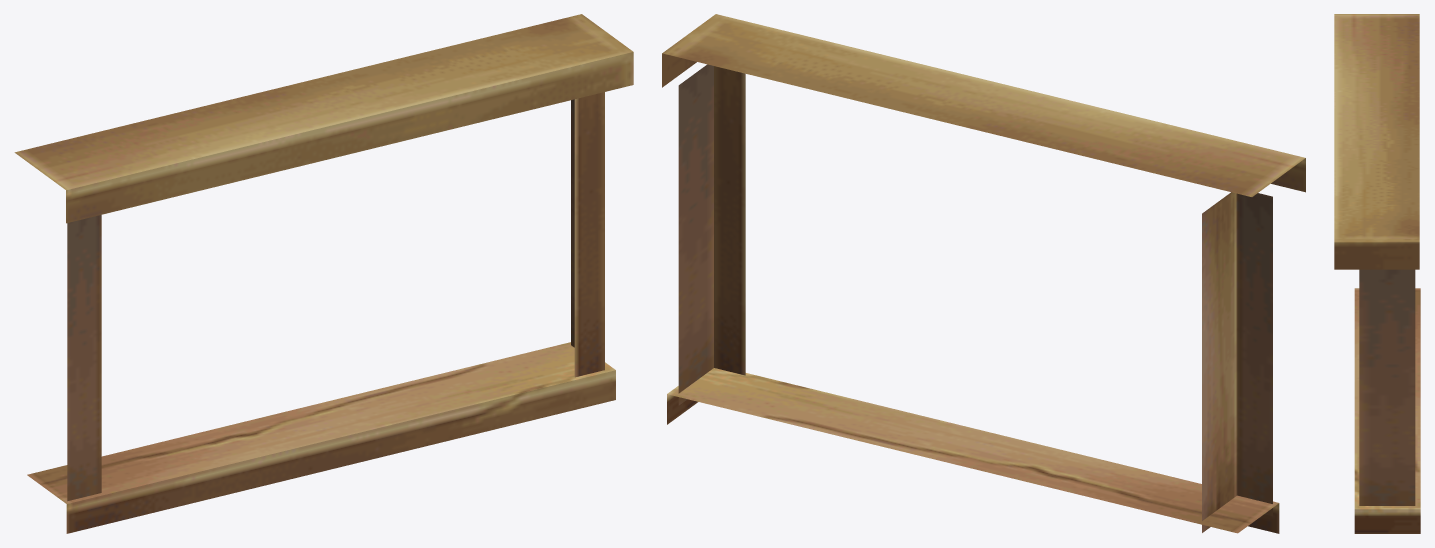
Rendered from K1_oldwicket.FBX.
The picture shows the model from 3 angles, left to right: view 1: azimuth 30°, elevation 25°; view 2: azimuth 150°, elevation 25°; view 3: azimuth 270°, elevation 25°; orthographic projection. The views are drawn at different scales.
Visible parts, largest first — view 1: oldwicket_02, oldwicket_03, oldwicket_01, oldwicket_00; view 2: oldwicket_02, oldwicket_03, oldwicket_01, oldwicket_00; view 3: oldwicket_02, oldwicket_00, oldwicket_03.
Part boxes in pixels (x1,y1,x2,y2): oldwicket_02: [14, 14, 633, 223]; oldwicket_03: [27, 342, 615, 533]; oldwicket_01: [67, 215, 101, 501]; oldwicket_00: [571, 92, 604, 377]; oldwicket_02: [662, 14, 1305, 196]; oldwicket_03: [667, 368, 1279, 533]; oldwicket_01: [1202, 192, 1272, 532]; oldwicket_00: [678, 64, 745, 405]; oldwicket_02: [1334, 14, 1419, 269]; oldwicket_00: [1359, 269, 1415, 505]; oldwicket_03: [1354, 288, 1420, 533].
Bounding box in the file's own units: 75.6 × 45.3 × 12.09.
